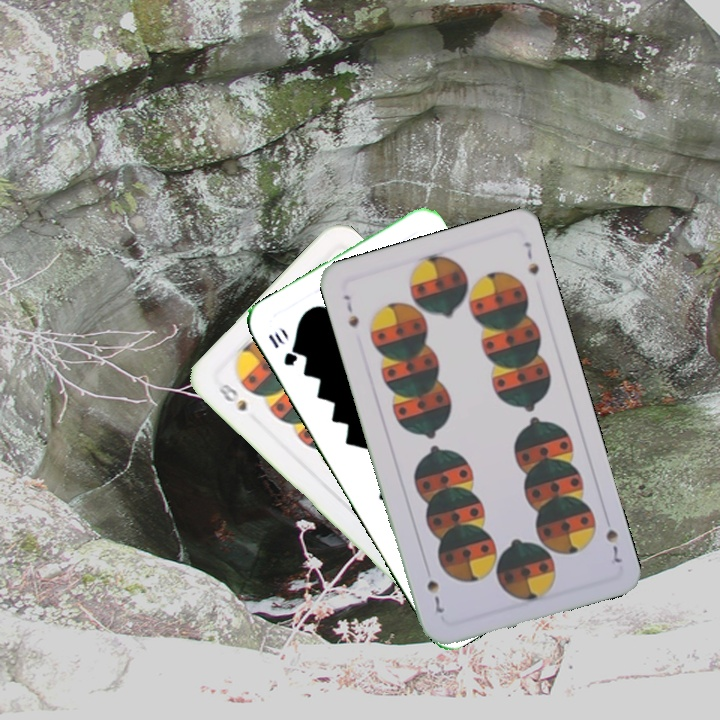G10: (264, 326, 300, 369)
S7: (601, 525, 624, 568), (339, 291, 362, 331)
S8: (214, 380, 250, 414)
